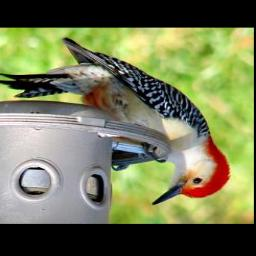Woodpecker: (0, 37, 230, 205)
